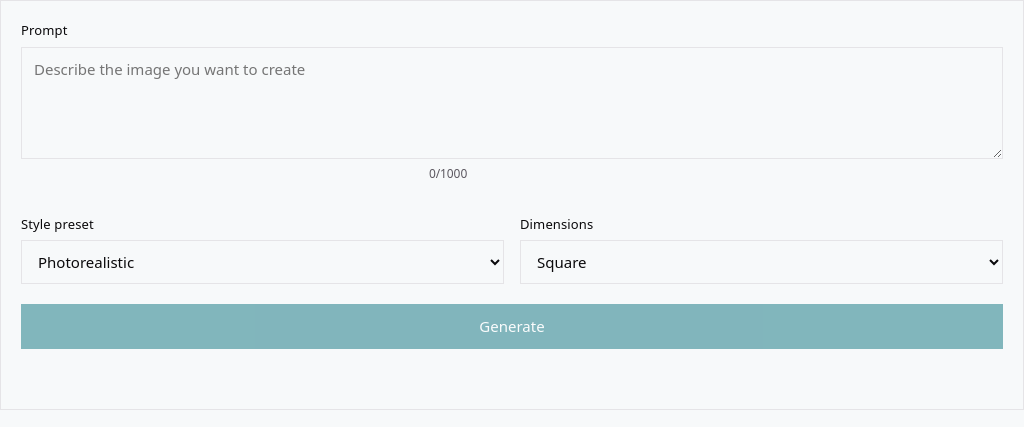
Test case: GenerateImageForm › updates the prompt counter as the user types
In the text box labelled "Prompt": (512, 102) [21,46,1003,158], type "A quiet harbor"
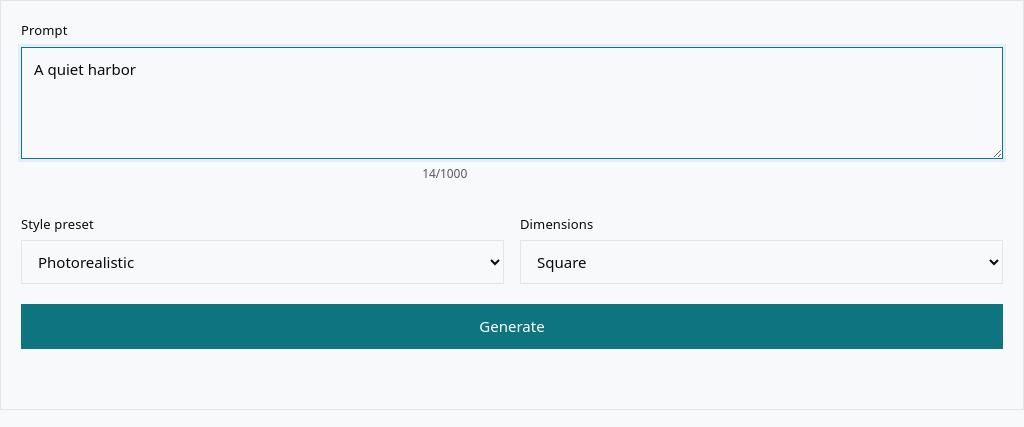
expect the text "14/1000" is shown: met, box [422,164,467,182]
